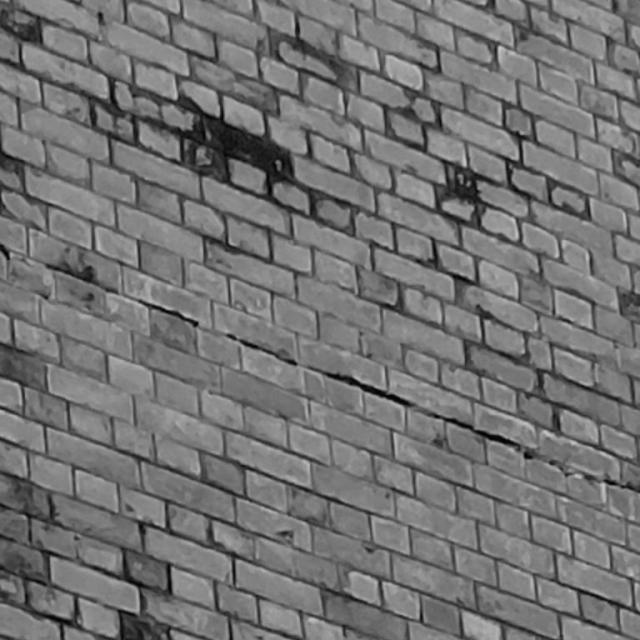crack: (307, 366, 639, 492), (224, 334, 297, 364), (137, 298, 198, 325), (1, 244, 10, 259)
